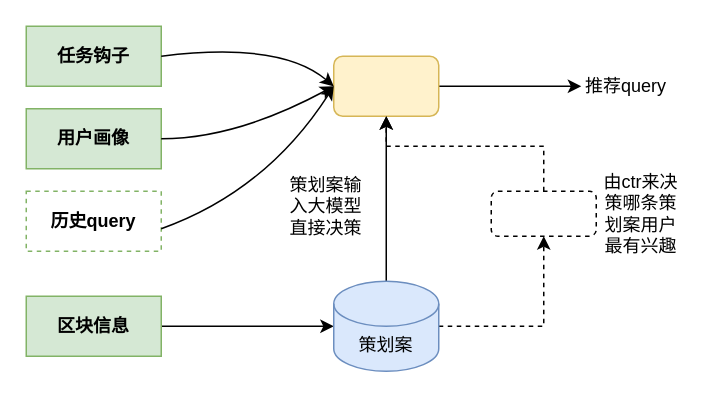
Image size: 713x398. Some labels were removed from this diagram. The shapes that lost their labels are listed below. From the top down, each one's centre as x and y in pixels, then its label:
At (x=385, y=85): "LLM".
At (x=543, y=213): "CTR".
